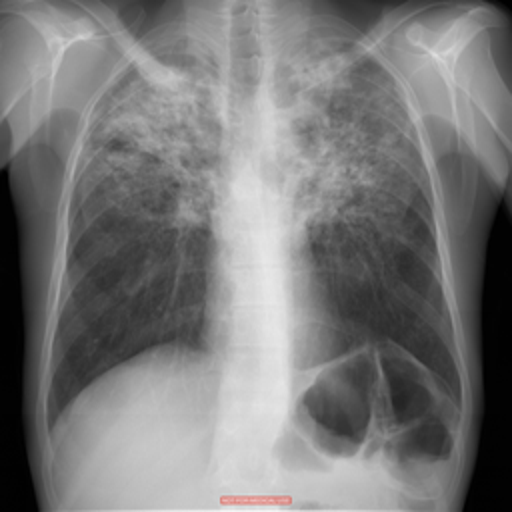TB: (107, 79, 402, 221)
